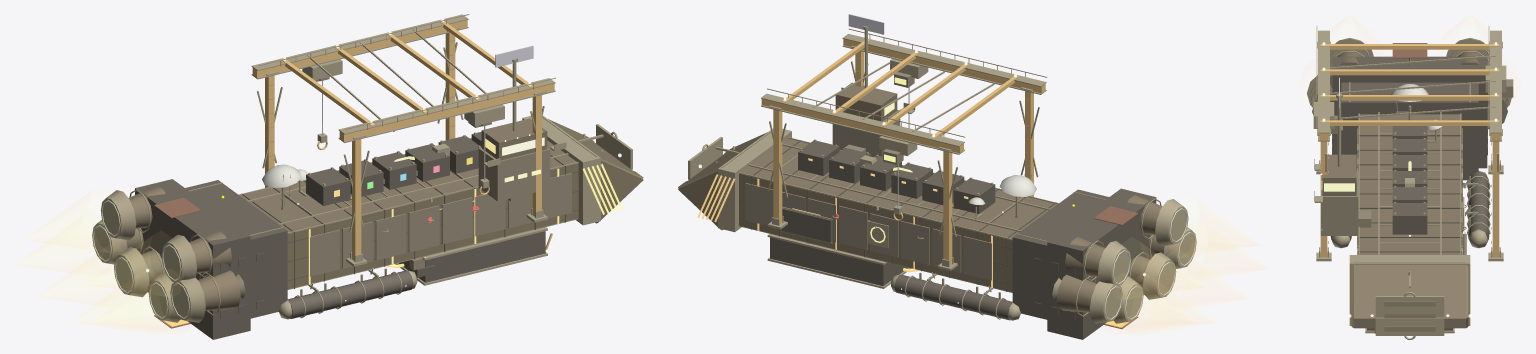
Rendered from CSV_Ironworks.glb.
3 views of the same model, side by side, from view 1: azimuth 30°, elevation 25°; view 2: azimuth 150°, elevation 25°; view 3: azimuth 270°, elevation 25° (orthographic). The views are drawn at different scales.
Visible parts, largest first — view 1: CSV_Ironworks; view 2: CSV_Ironworks; view 3: CSV_Ironworks.
Part boxes in pixels (x1,y1,x2,y2): CSV_Ironworks: [45, 14, 646, 339]; CSV_Ironworks: [675, 14, 1240, 339]; CSV_Ironworks: [1306, 26, 1514, 339].
Size of the model in its own units: 37.39 by 14.46 by 13.
